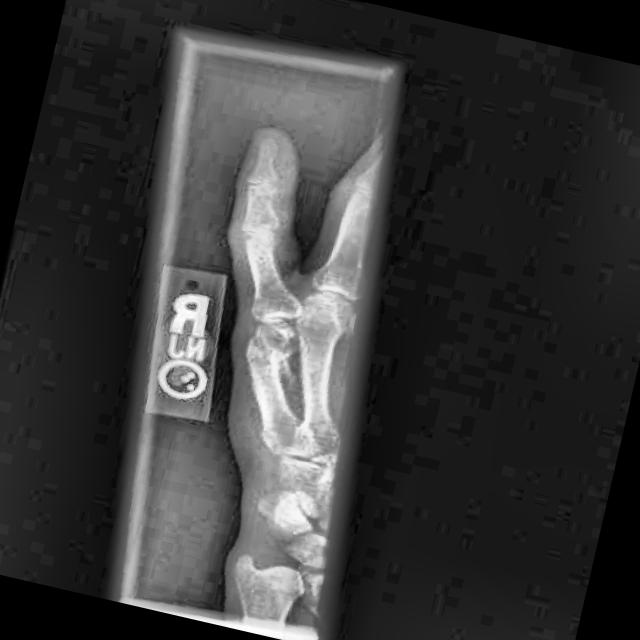fingers positive: (236, 320, 297, 392)
